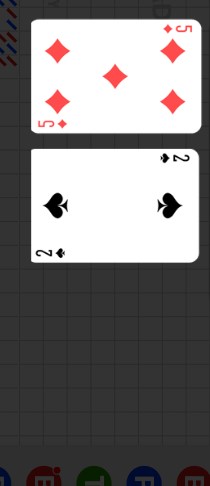2S: (35, 246, 68, 260)
9D: (36, 118, 69, 130)
